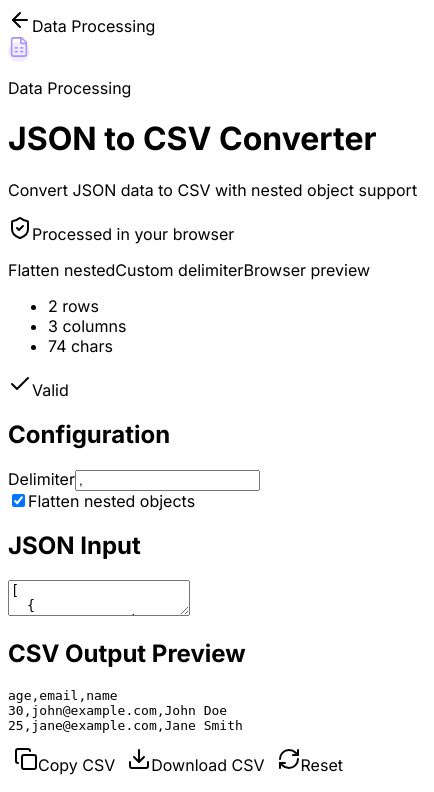
JSON to CSV Converter Page › Error Handling › shows appropriate error border color when invalid
The image size is (434, 792).
Clear the text box with test id "codemirror-editor". click: [99, 598]
box: [8,580,190,616]
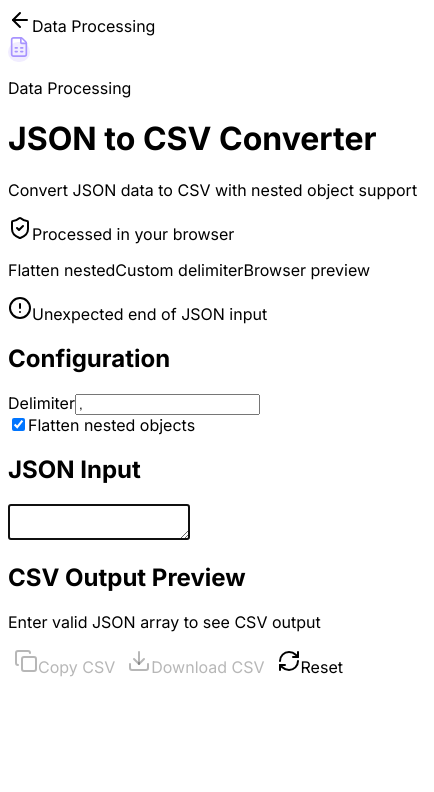
Type "invalid" into the text box with test id "codemirror-editor". click: [99, 522]
box: [8,504,190,540]
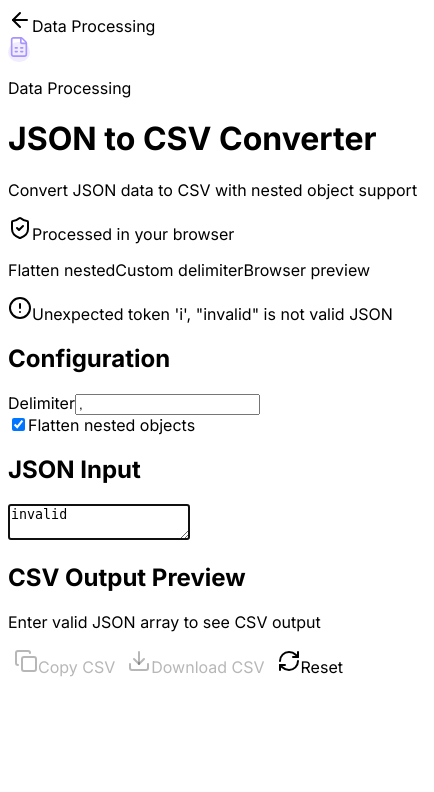
Expected: the text "Unexpected token 'i', \"invalid\" is not valid JSON" is shown, [32,304,393,324]
